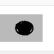correct: (13, 20, 37, 37)
